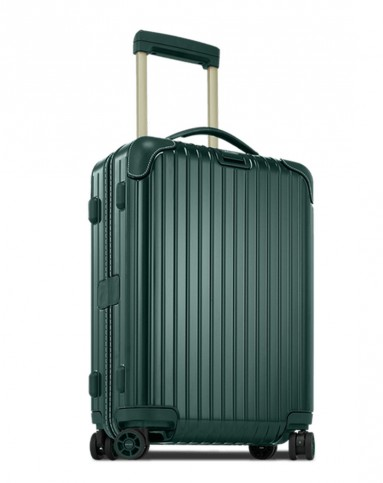luggage: (86, 25, 316, 465)
